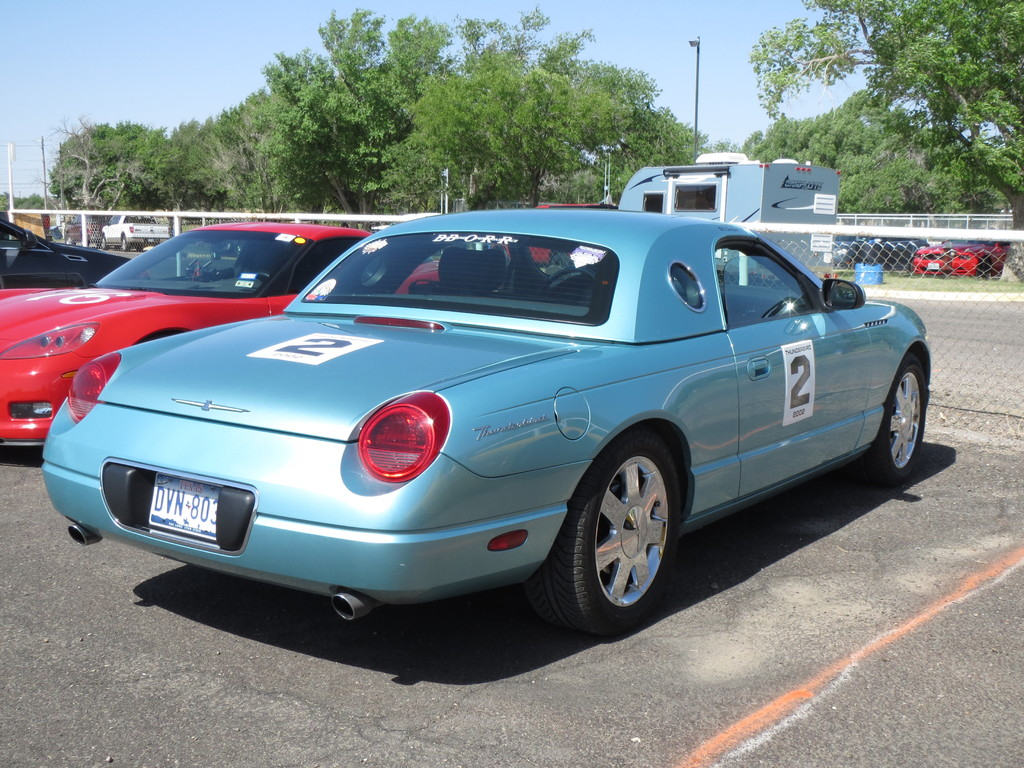Car: (37, 203, 928, 639), (0, 219, 441, 445), (0, 214, 138, 288), (912, 240, 1008, 277), (104, 218, 175, 252)
